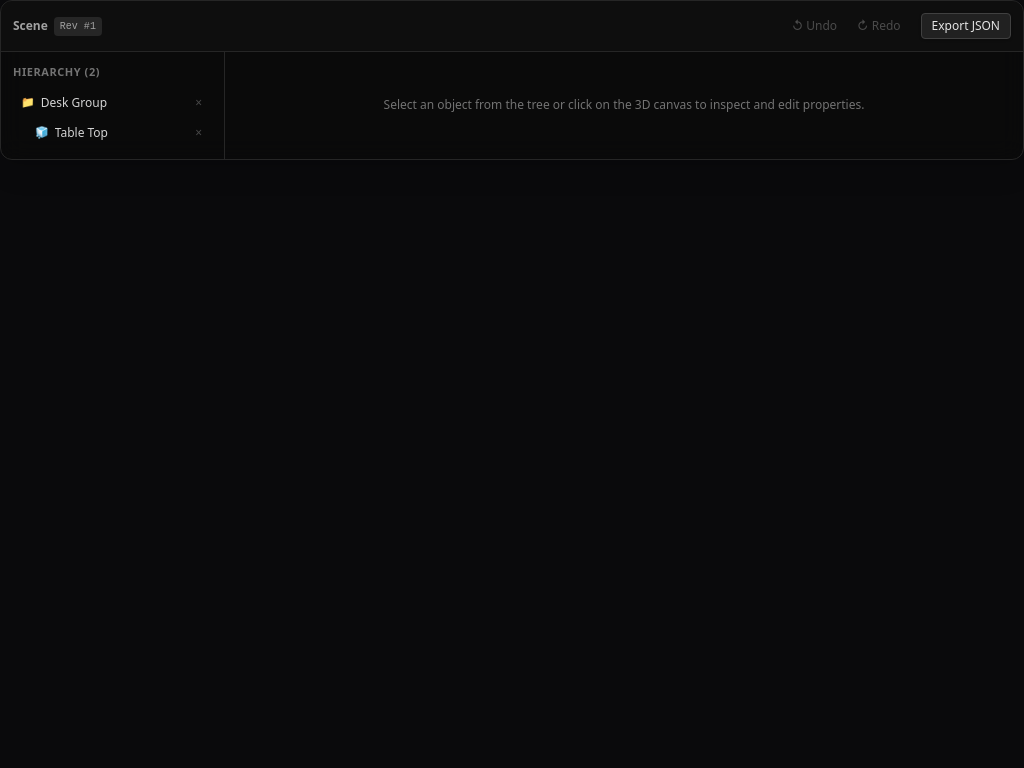
Test: PropertyInspector › selects a node on click and displays its transform, geometry, and material
Step 1. Click the text "Table Top" → click(81, 132), box [55,124,108,140]
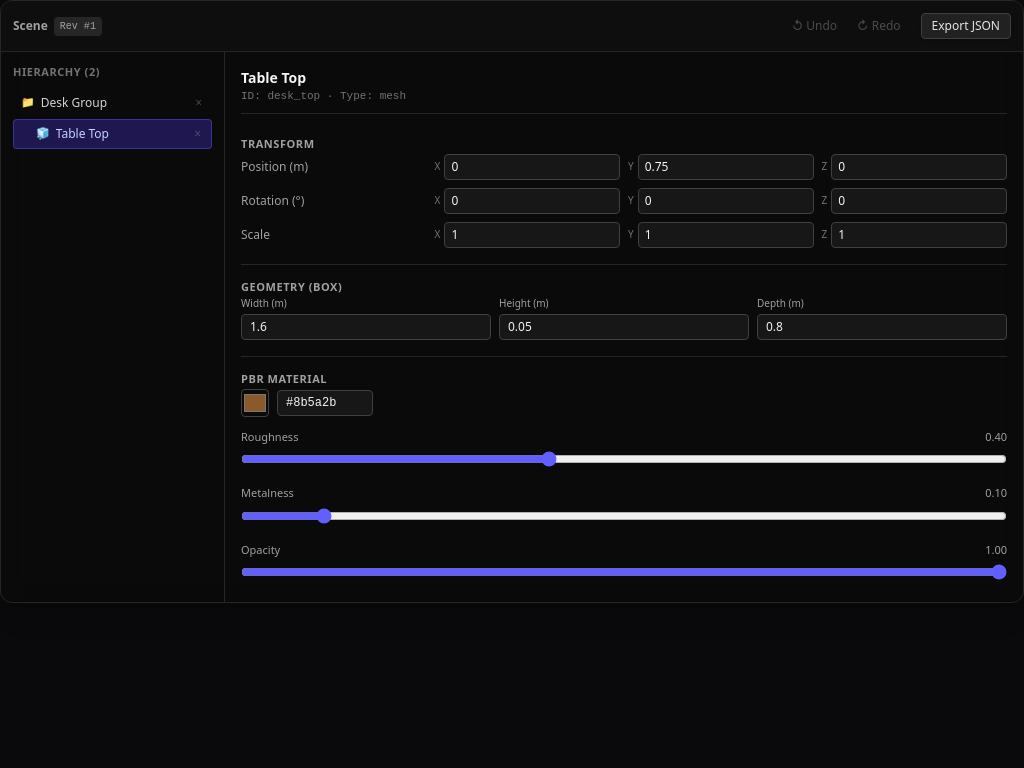
Check: the text "ID: desk_top · Type: mesh" is shown, box [241,88,406,104]
Check: the text "Transform" is shown, box [241,136,315,150]
Check: the text "Geometry (box)" is shown, box [241,278,342,294]
